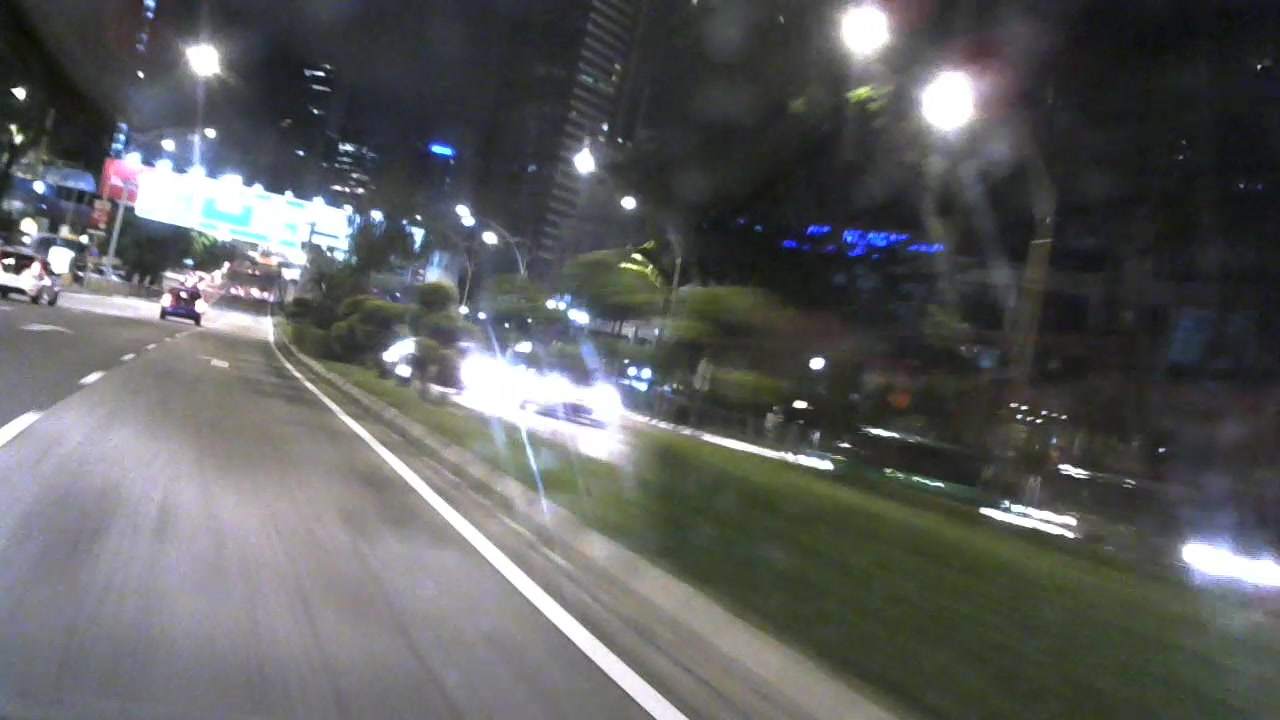Car: (1, 242, 73, 311), (153, 282, 207, 329)
